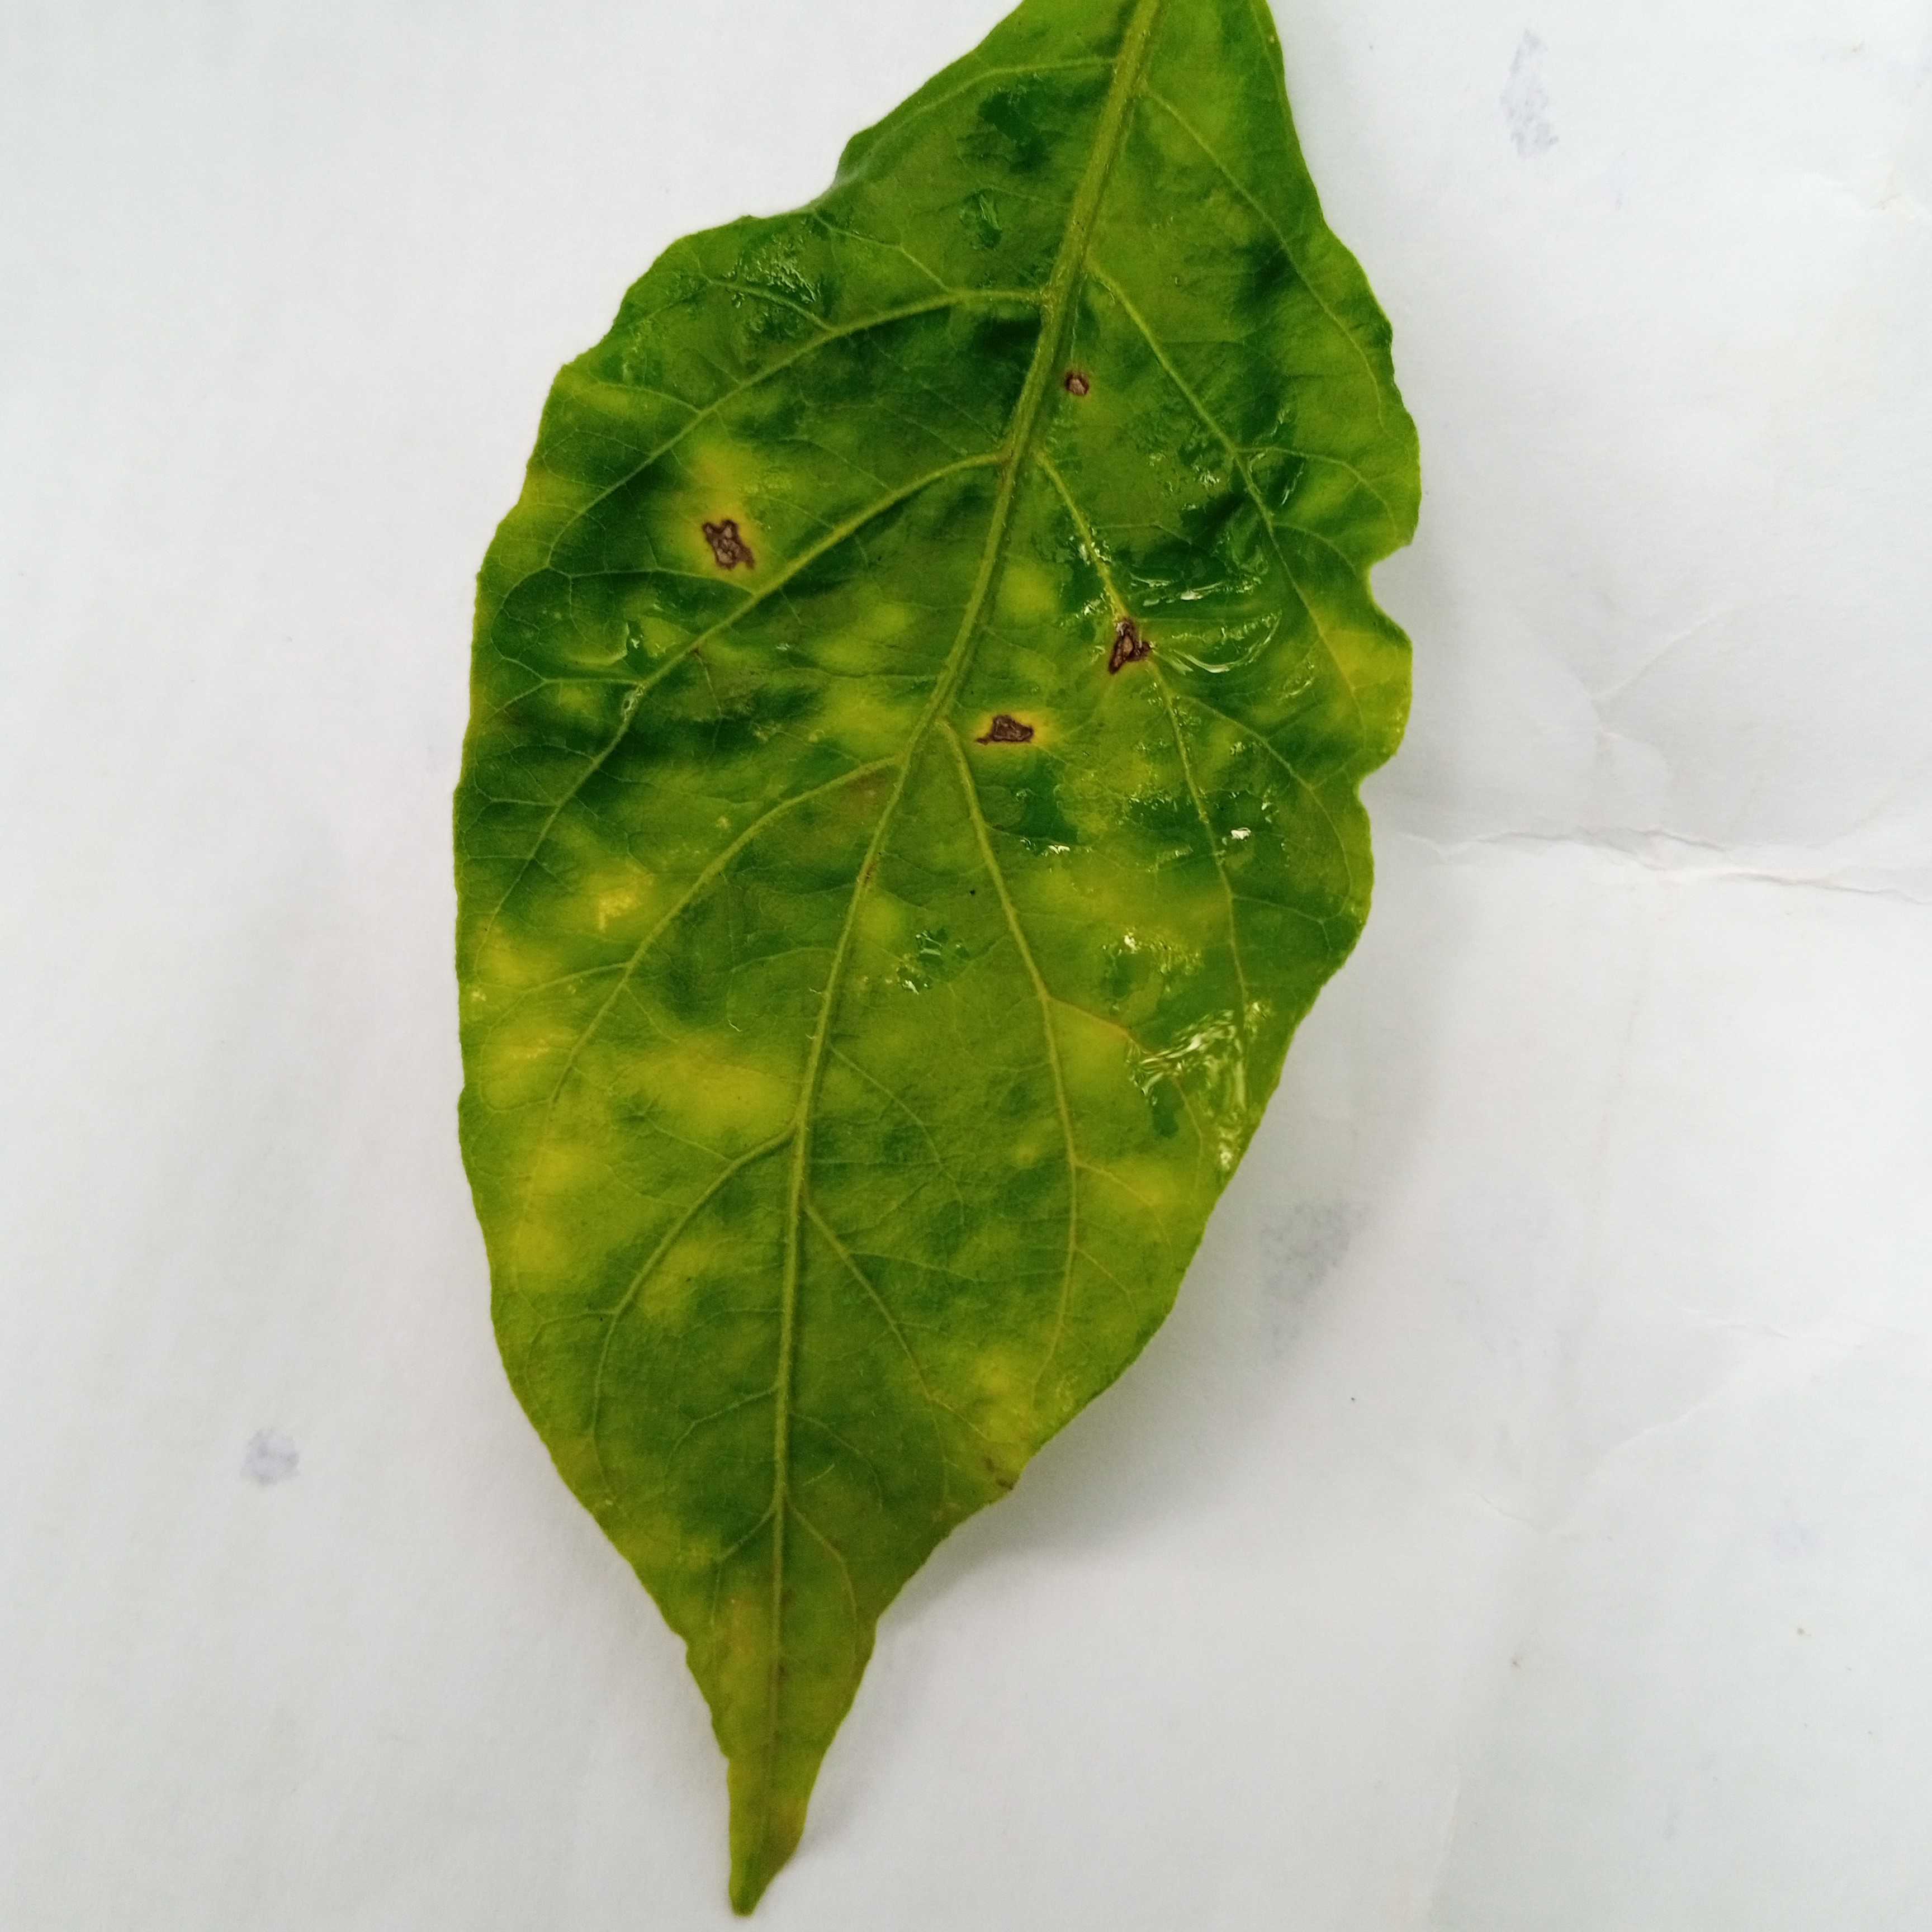Leaf: (313, 9, 1775, 1932)
